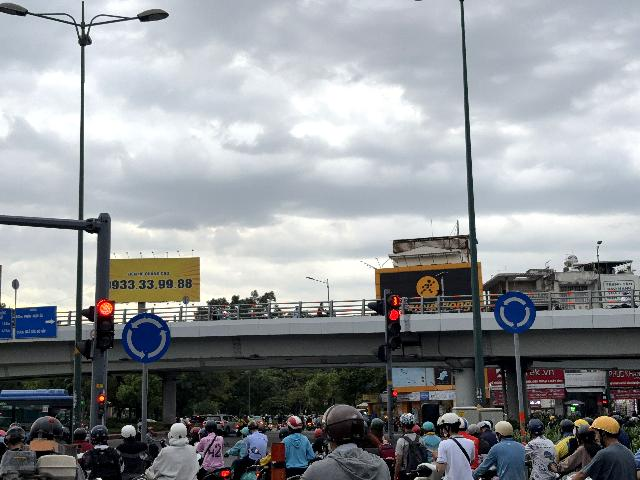noi-giao-nhau-chay-theo-vong-xuyen: (121, 313, 171, 364), (492, 291, 537, 335)
